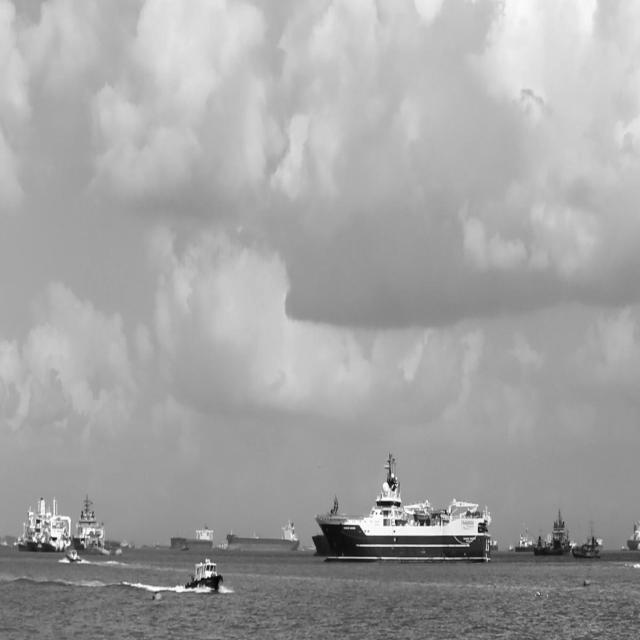buoy: (150, 584, 168, 604), (580, 572, 596, 590), (531, 584, 547, 598)
ship: (316, 448, 504, 573), (15, 490, 74, 556), (76, 492, 127, 560), (225, 518, 305, 560), (528, 506, 578, 564), (162, 521, 220, 556), (566, 519, 606, 566), (186, 552, 226, 598), (514, 520, 544, 560), (59, 544, 85, 572)
